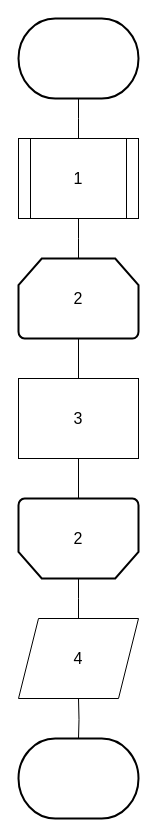
Some shapes in this 156 by 836 pixel diagram are drawn without their labels. The shapes that lost their labels are listed below. From the top down, each one's centre as x and y in pixels, then its label:
At [78,58]: "Начало".
At [78,778]: "Конец".
